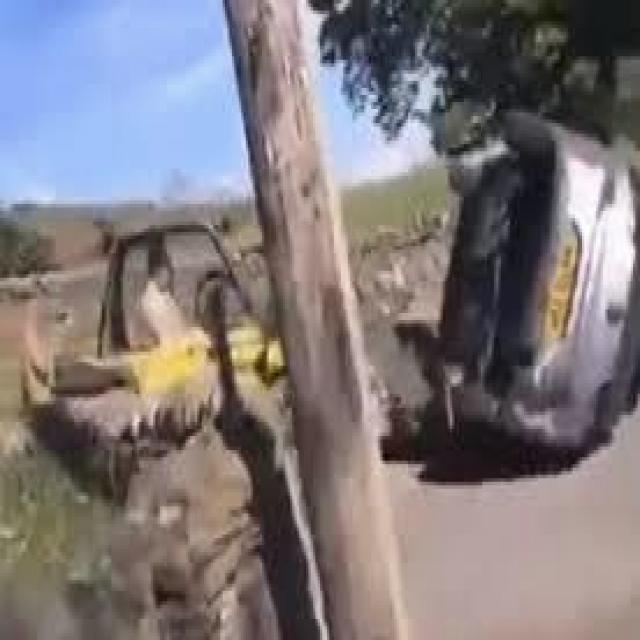severe: (417, 84, 640, 468)
